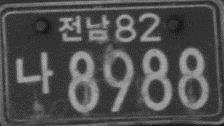2: (138, 12, 161, 42)
8: (66, 48, 99, 114), (140, 48, 174, 112), (178, 46, 210, 109), (114, 13, 137, 43)
9: (102, 48, 134, 113)
나: (15, 50, 53, 93)
전남_O: (57, 13, 109, 43)
